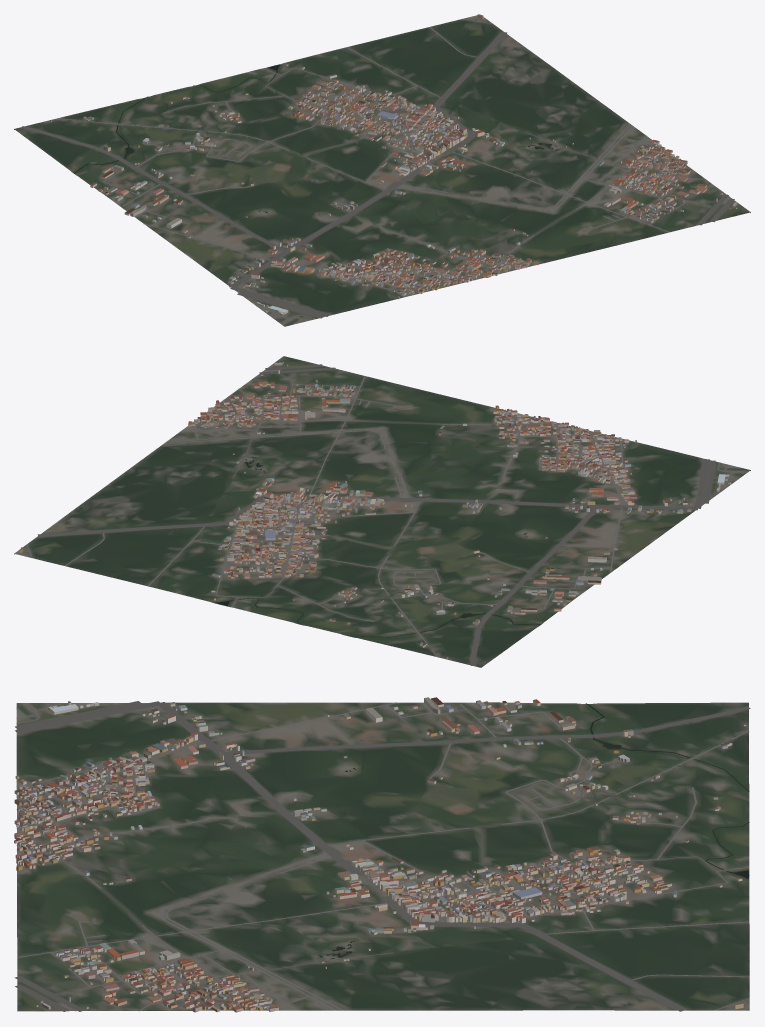
3 views of the same model, one above another, from view 1: azimuth 30°, elevation 25°; view 2: azimuth 150°, elevation 25°; view 3: azimuth 270°, elevation 25° (orthographic). The views are drawn at different scales.
Parts seen in each view (by area): view 1: ground, buildings, roads; view 2: ground, buildings, roads, water; view 3: ground, buildings, roads, water.
Part boxes in pixels (left/top/right/bottom): ground: left=14, top=15, right=750, bottom=326; buildings: left=49, top=14, right=737, bottom=315; roads: left=21, top=18, right=734, bottom=325; ground: left=14, top=356, right=750, bottom=667; buildings: left=20, top=361, right=731, bottom=658; roads: left=26, top=364, right=748, bottom=665; water: left=215, top=457, right=541, bottom=637; ground: left=16, top=702, right=749, bottom=1011; buildings: left=14, top=697, right=746, bottom=1012; roads: left=14, top=701, right=750, bottom=1011; water: left=318, top=703, right=749, bottom=959.
Size of the model in its own units: 1421 by 24.97 by 1411.
